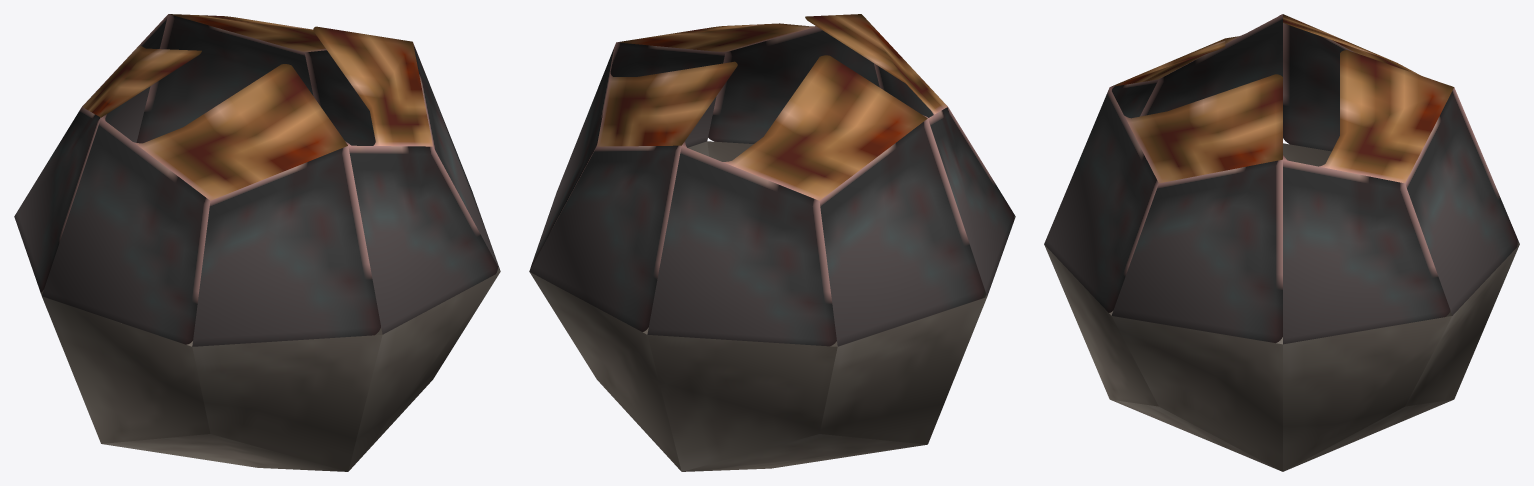
3 views of the same model, side by side, from view 1: azimuth 30°, elevation 25°; view 2: azimuth 150°, elevation 25°; view 3: azimuth 270°, elevation 25° (orthographic). The views are drawn at different scales.
Visible parts, largest first — view 1: T1L3M005_5; view 2: T1L3M005_5; view 3: T1L3M005_5.
Part boxes in pixels (box(x1,y1,x2,y2)): T1L3M005_5: box(14, 14, 500, 471); T1L3M005_5: box(529, 14, 1015, 471); T1L3M005_5: box(1044, 14, 1519, 471).
Size of the model in its own units: 0.2549 by 0.2549 by 0.2549.
